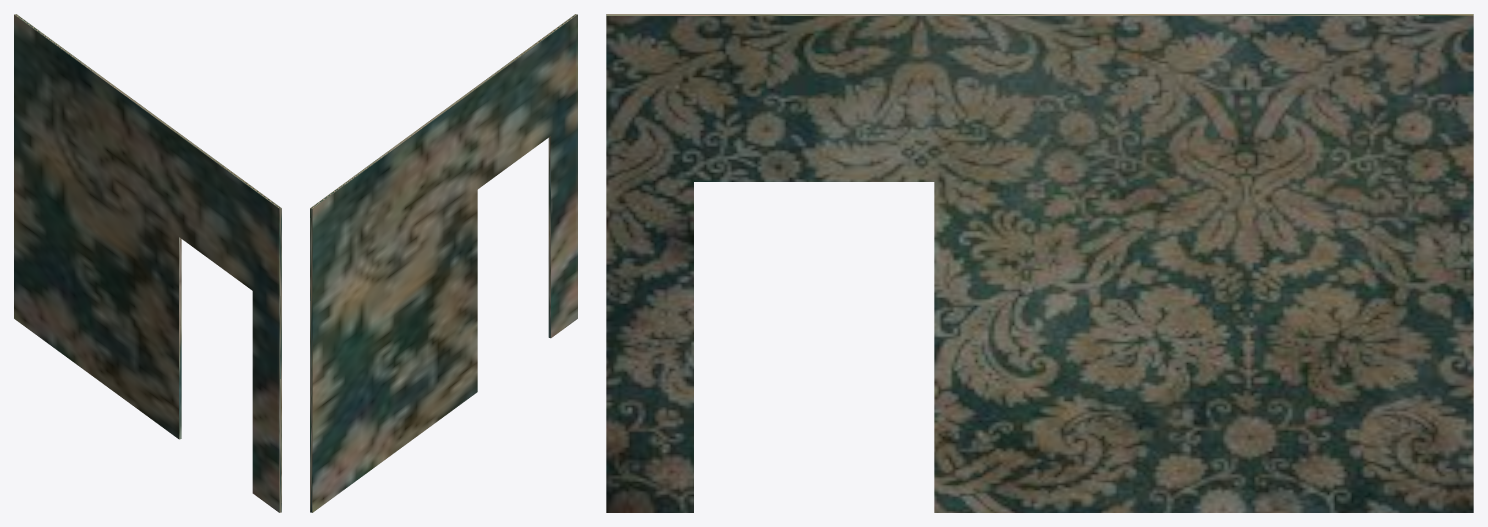
The model's file is hidden_door.fbx.
The picture shows the model from 3 angles, left to right: view 1: azimuth 30°, elevation 25°; view 2: azimuth 150°, elevation 25°; view 3: azimuth 270°, elevation 25°; orthographic projection. The views are drawn at different scales.
Visible parts, largest first — view 1: Cube; view 2: Cube; view 3: Cube.
Part boxes in pixels (left/top/right/bottom): Cube: left=14, top=14, right=281, bottom=512; Cube: left=310, top=14, right=577, bottom=512; Cube: left=606, top=14, right=1473, bottom=512.
Size of the model in its own units: 25.56 by 3027 by 4788.
